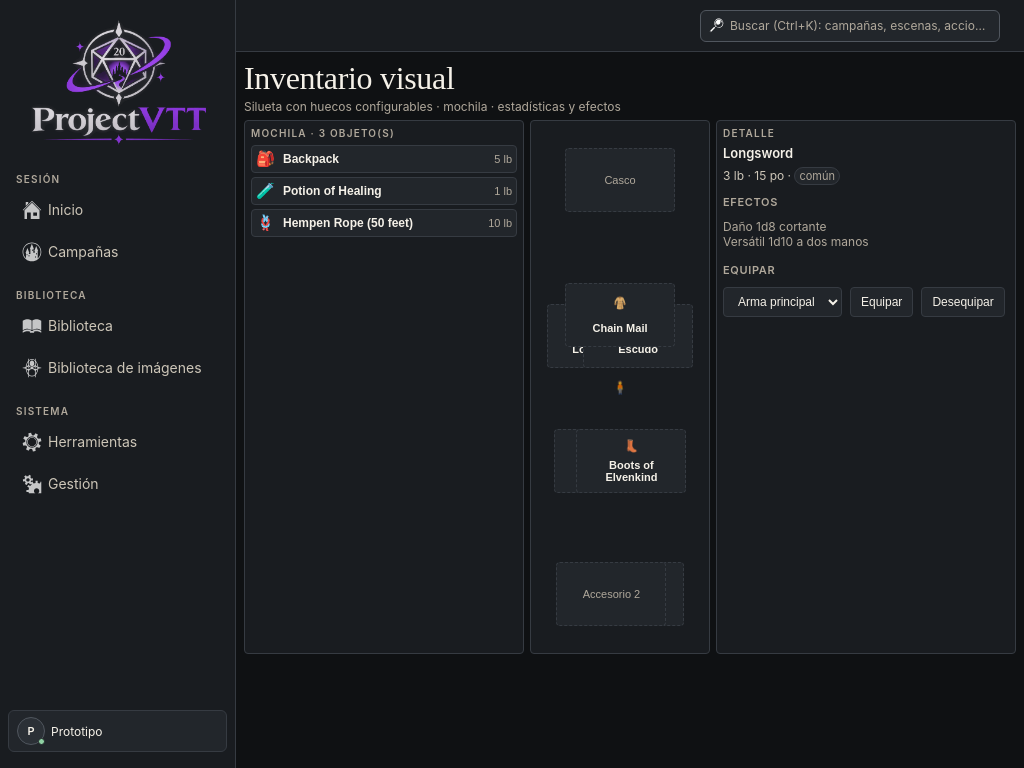
Scenario: Prototipo inventario visual (PMB-6.3) › no sobrescribe un hueco ocupado
Click the button "🧪 Potion of Healing 1 lb": click(384, 191) [251,177,517,205]
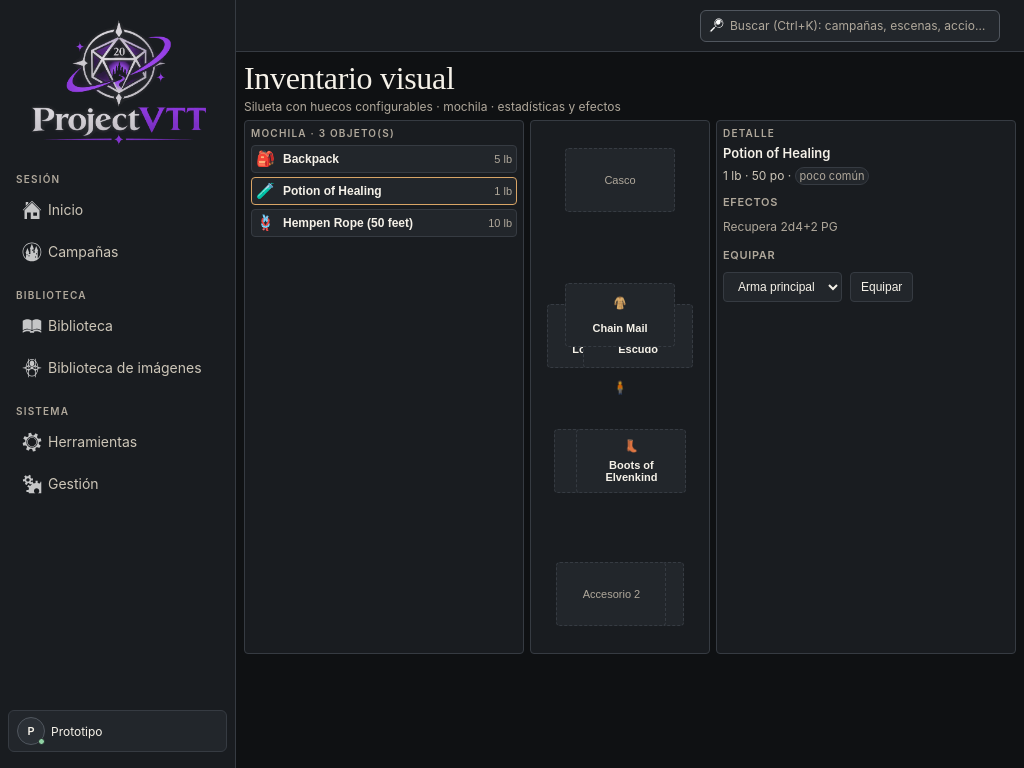
Select "Armadura" in the dropdown named "Hueco": (782, 287) [723,272,842,302]
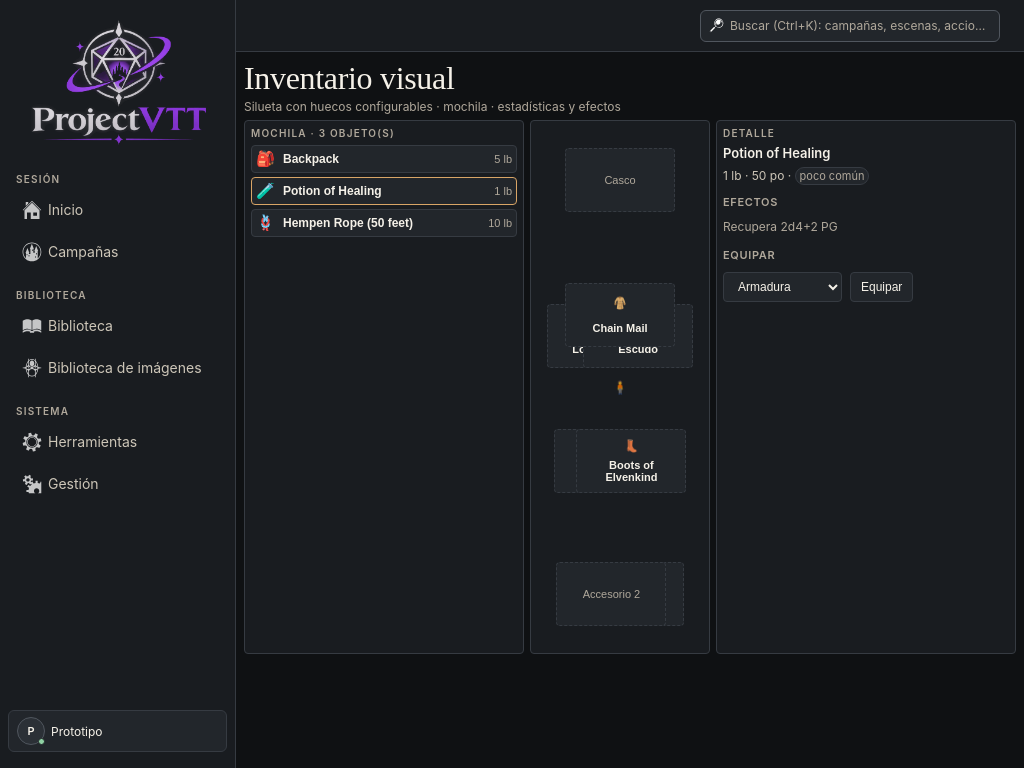
Click the button "Equipar": click(882, 287) [850,272,913,302]
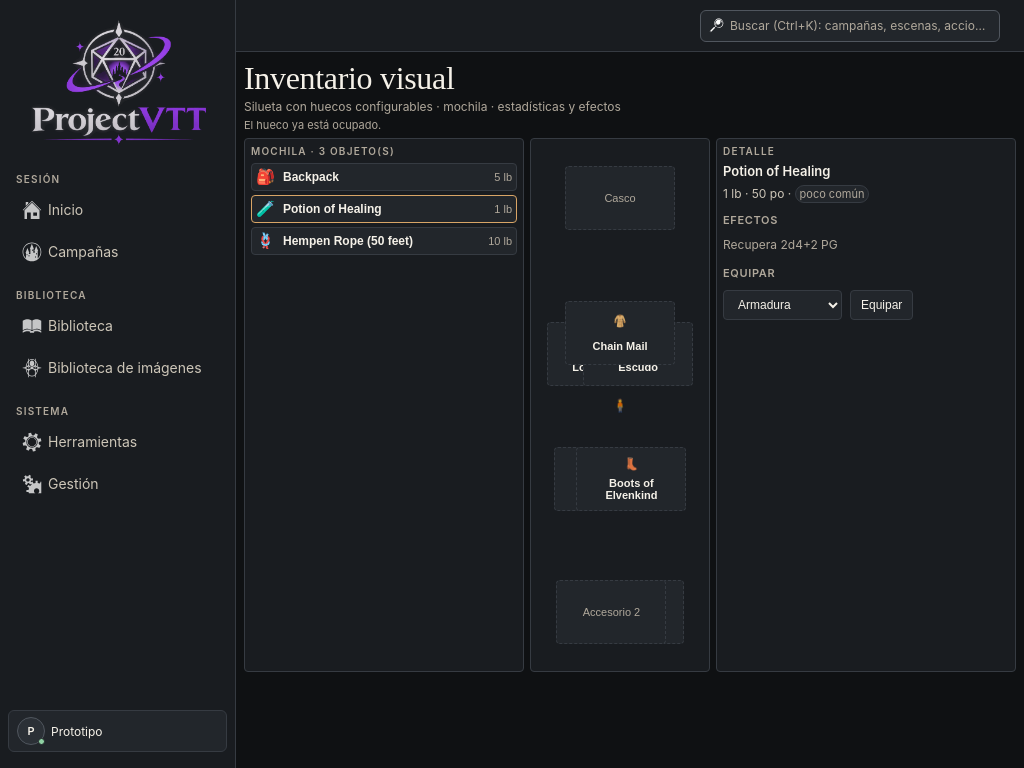
Expected: the button with aria-label "Armadura: Chain Mail" is shown, [565,301,675,365]
Expected: the message shows "ya está ocupado", [244,118,381,132]
